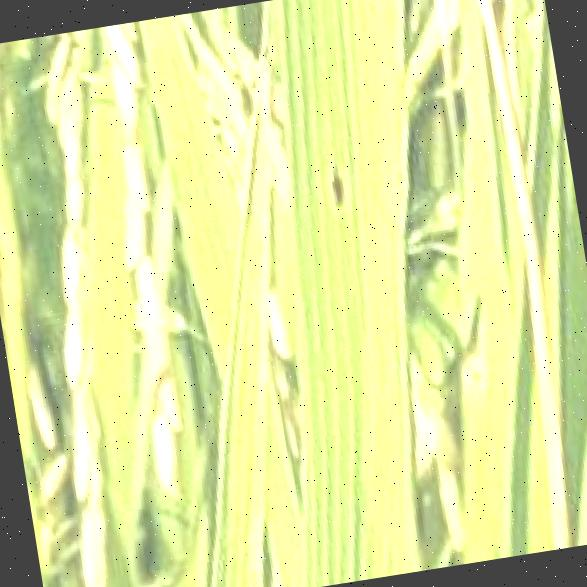Brown_Spot: (309, 149, 363, 218)
